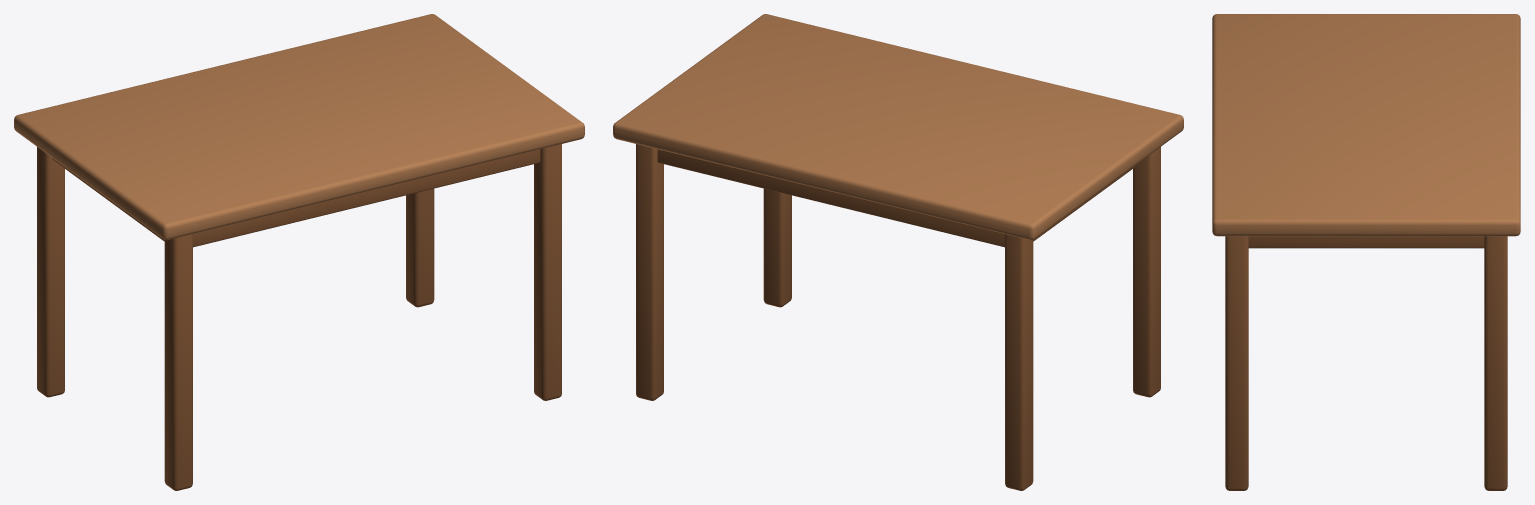
The model's file is dining_table.glb.
3 renders of one model, left to right at view 1: azimuth 30°, elevation 25°; view 2: azimuth 150°, elevation 25°; view 3: azimuth 270°, elevation 25°, orthographic.
Parts seen in each view (by area): view 1: dining_table_top, dining_table_leg, dining_table_leg.002, dining_table_leg.001, dining_table_apron_front, dining_table_leg.003; view 2: dining_table_top, dining_table_leg.001, dining_table_leg.003, dining_table_leg, dining_table_apron_back, dining_table_leg.002; view 3: dining_table_top, dining_table_leg.002, dining_table_leg.003, dining_table_apron_side.001.
Boxes of the visible parts, x1,y1,x2,y2 form: dining_table_top: (14,14,584,240); dining_table_leg: (164,234,192,490); dining_table_leg.002: (534,144,561,400); dining_table_leg.001: (37,147,64,397); dining_table_apron_front: (193,149,540,247); dining_table_leg.003: (406,188,434,307); dining_table_top: (613,14,1183,240); dining_table_leg.001: (1005,234,1033,490); dining_table_leg.003: (636,144,663,400); dining_table_leg: (1133,147,1160,397); dining_table_apron_back: (657,149,1004,247); dining_table_leg.002: (763,188,791,307); dining_table_top: (1212,14,1520,236); dining_table_leg.002: (1225,236,1248,490); dining_table_leg.003: (1484,236,1507,490); dining_table_apron_side.001: (1248,236,1484,248).
Bounding box in the file's own units: 1.6 × 1 × 1.
